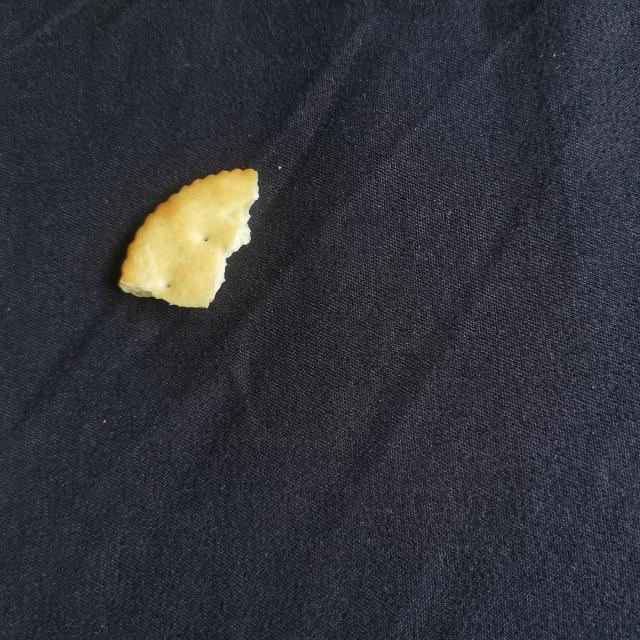Broken: (117, 166, 260, 310)
